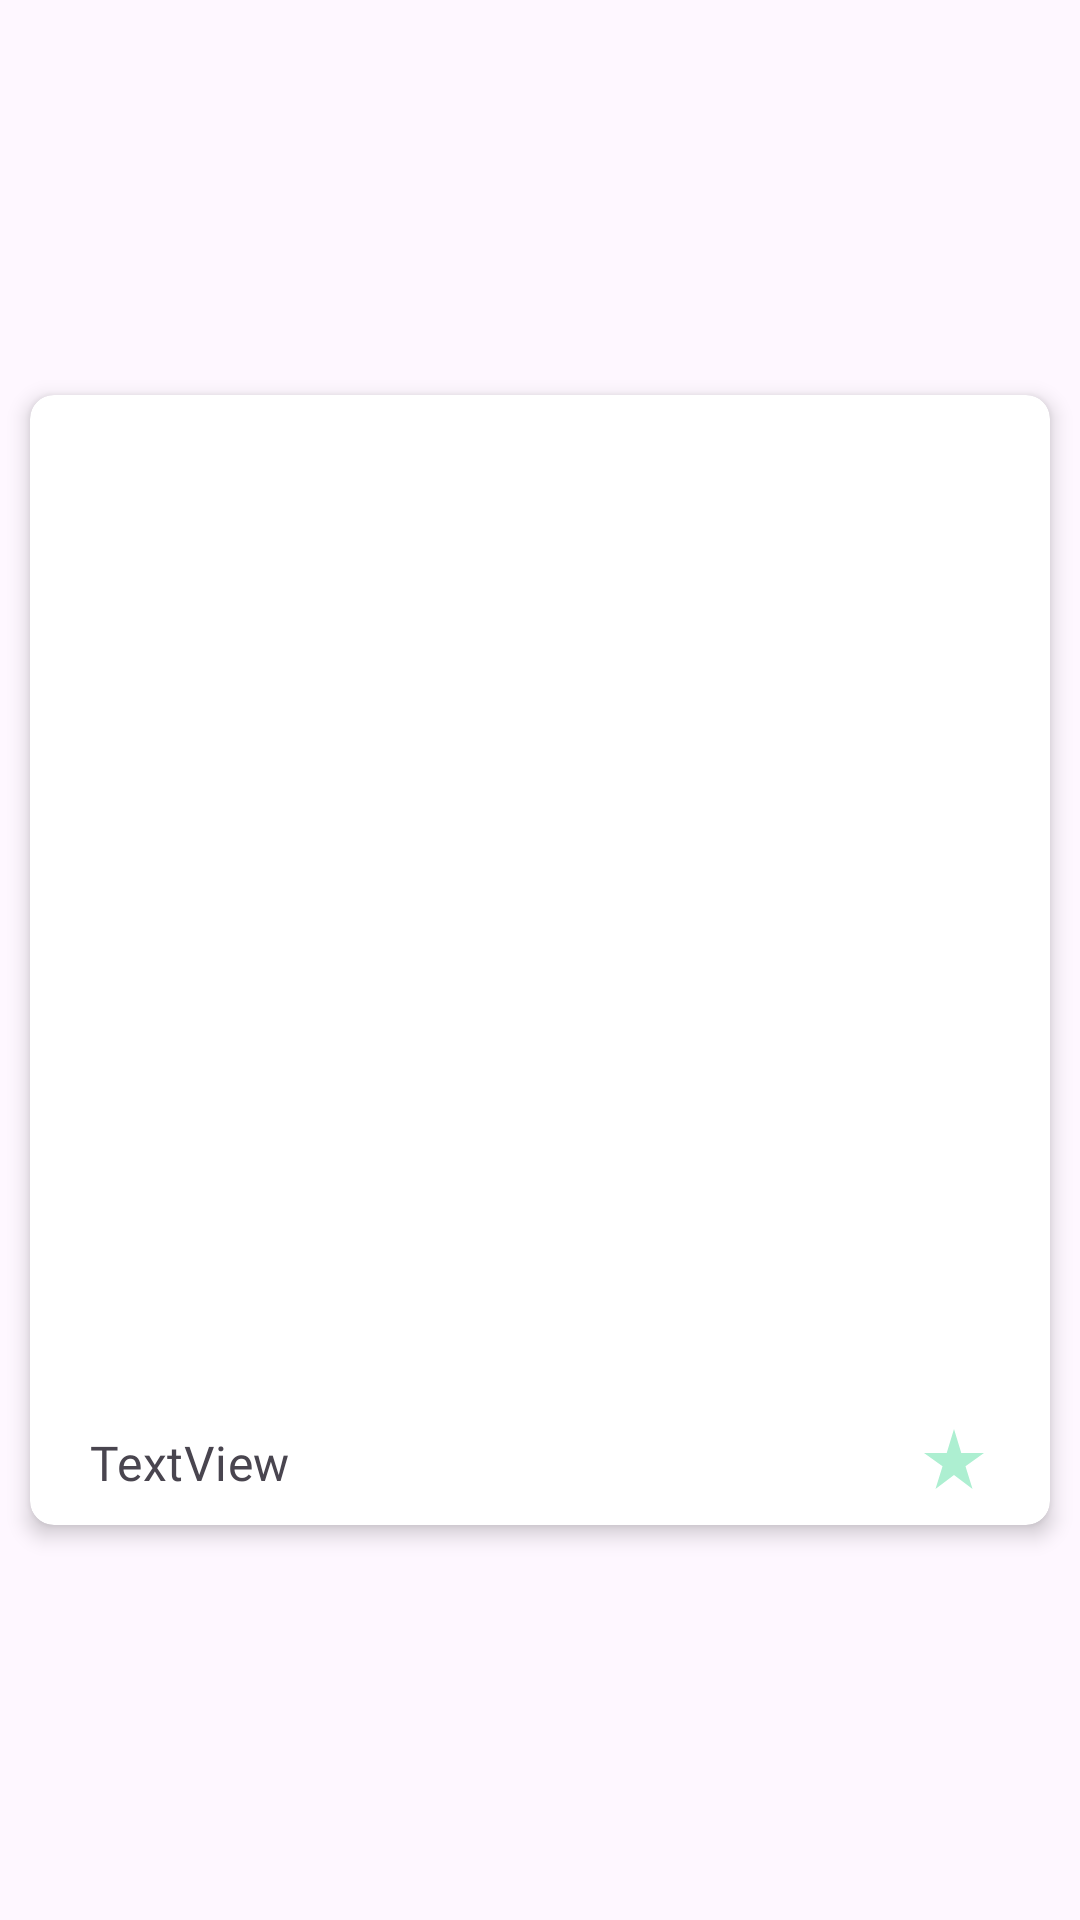

Icon bounding boxes for this 1080x1920 phone screenshot, format (x1, y1, x2, y2):
star rate: (924, 1430, 984, 1488)
